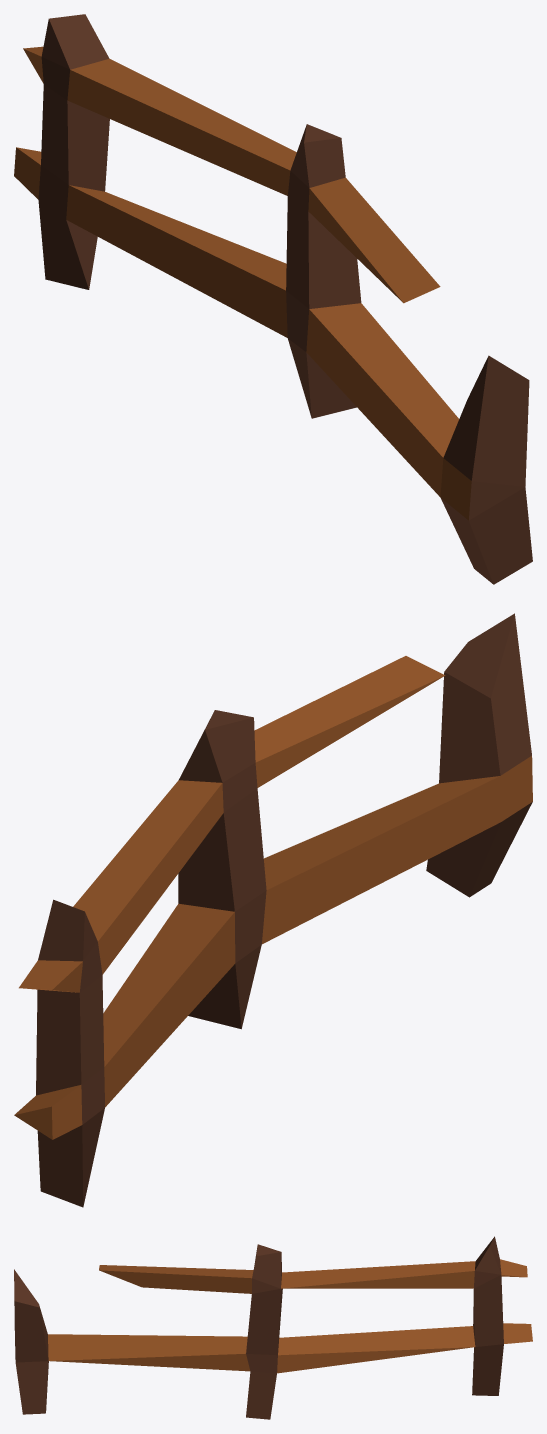
Rendered from cit3.fbx.
3 views of the same model, one above another, from view 1: azimuth 30°, elevation 25°; view 2: azimuth 150°, elevation 25°; view 3: azimuth 270°, elevation 25° (orthographic). The views are drawn at different scales.
Parts seen in each view (by area): view 1: Cube; view 2: Cube; view 3: Cube.
Boxes of the visible parts, x1,y1,x2,y2 form: Cube: (14,14,532,584); Cube: (14,613,532,1207); Cube: (14,1236,532,1419).
Size of the model in its own units: 440 by 1037 by 2856.
